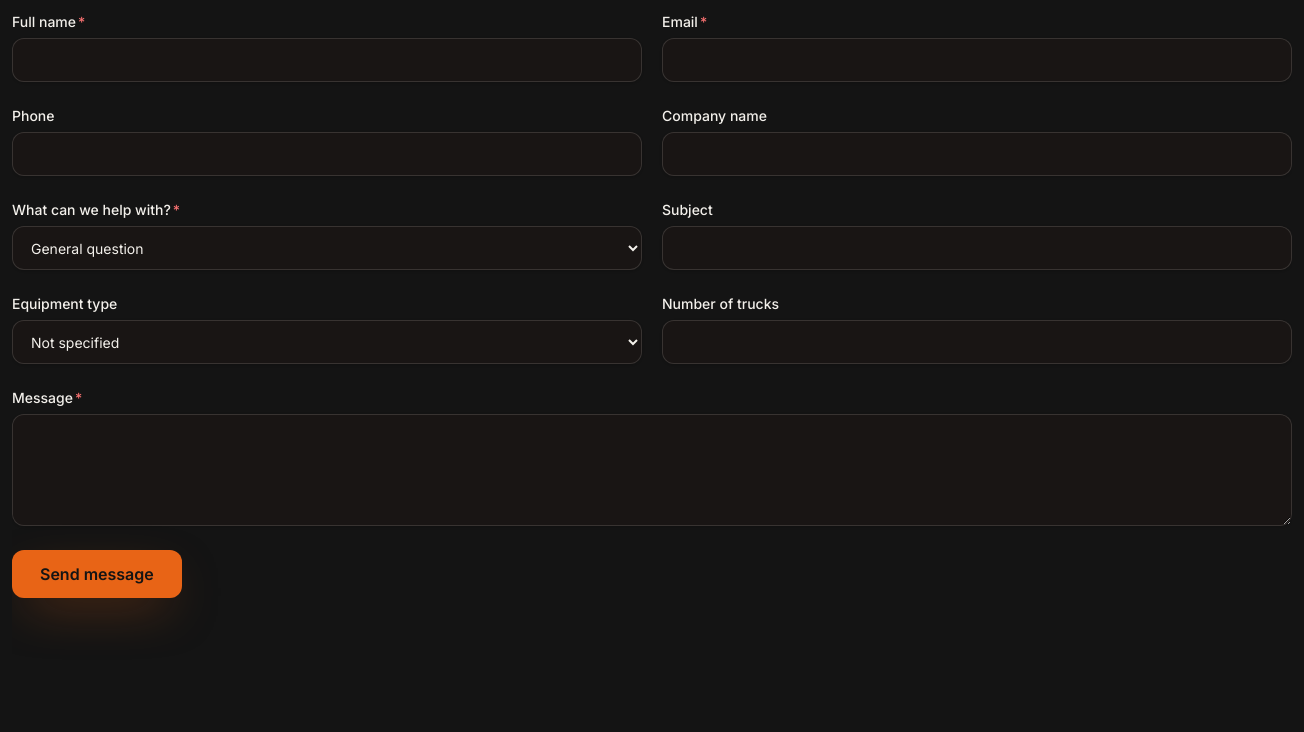
it: ContactForm › maps server field errors onto the matching fields and focuses the first
In the field labelled "Full name*": x=327, y=60 [12,38,642,82], type "Jane Driver"
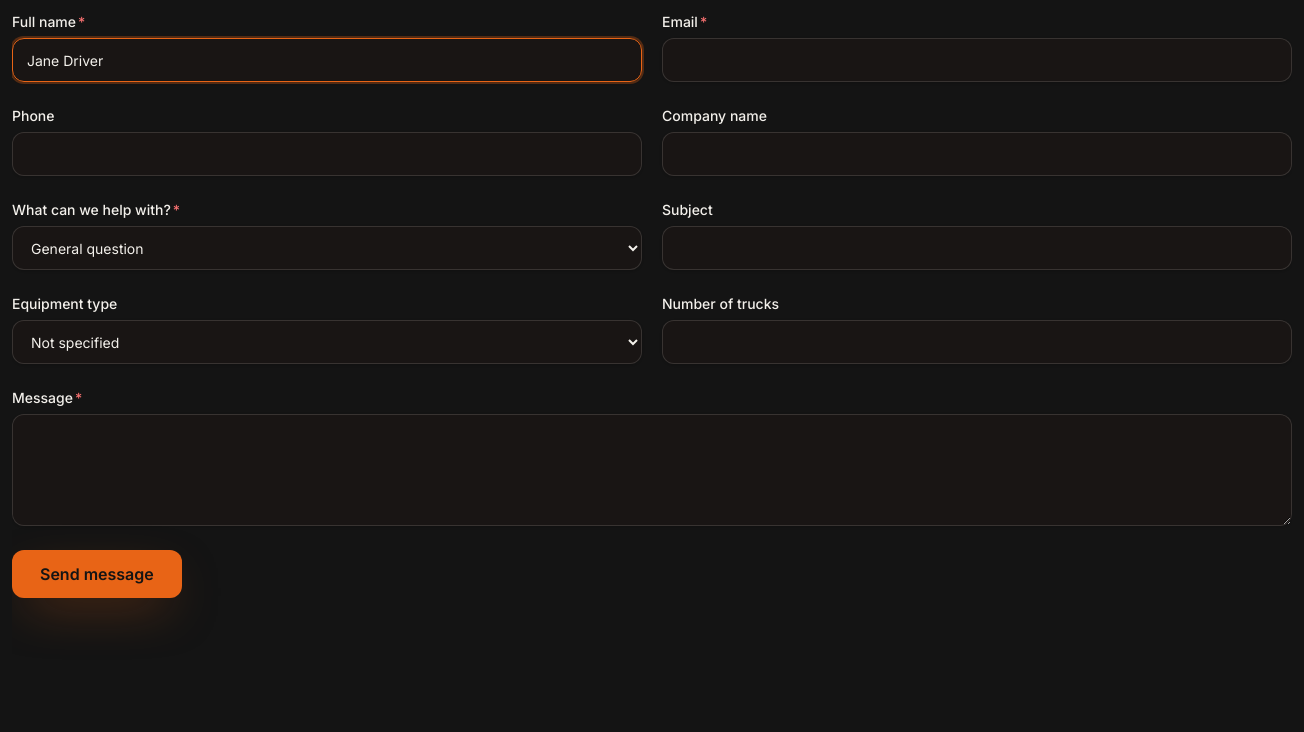
In the field labelled "Email*": x=977, y=60 [662,38,1292,82], type "jane@example.com"
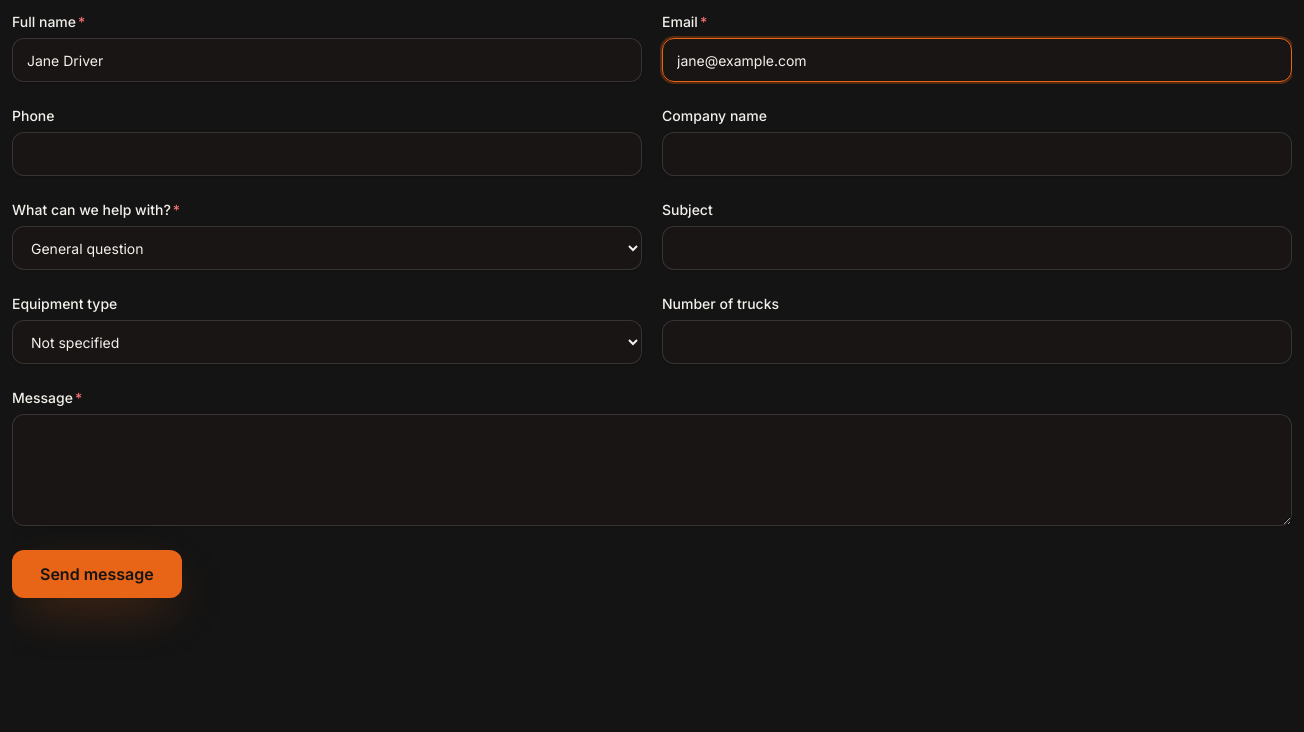
In the field labelled "Subject": x=977, y=248 [662,226,1292,270], type "Dispatch question"
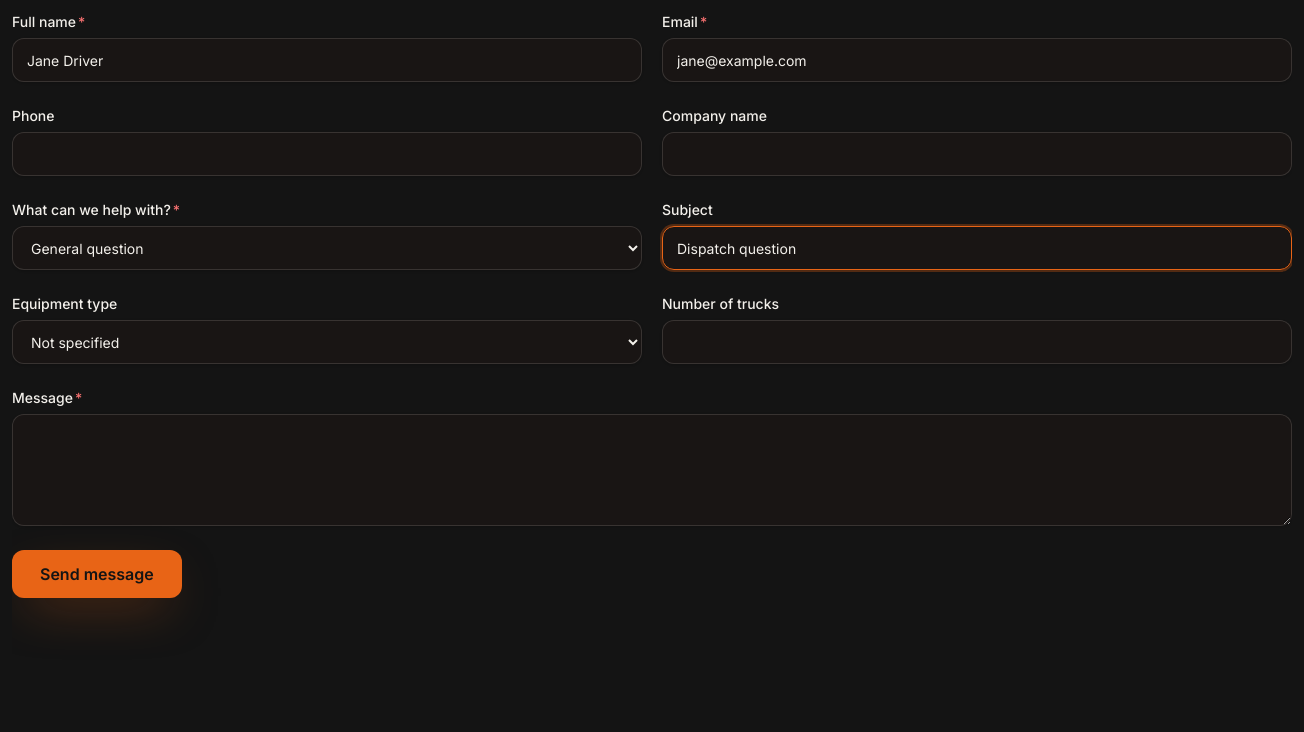
In the text box labelled "Message*": x=652, y=470 [12,414,1292,526], type "I would like to know more about dispatch."
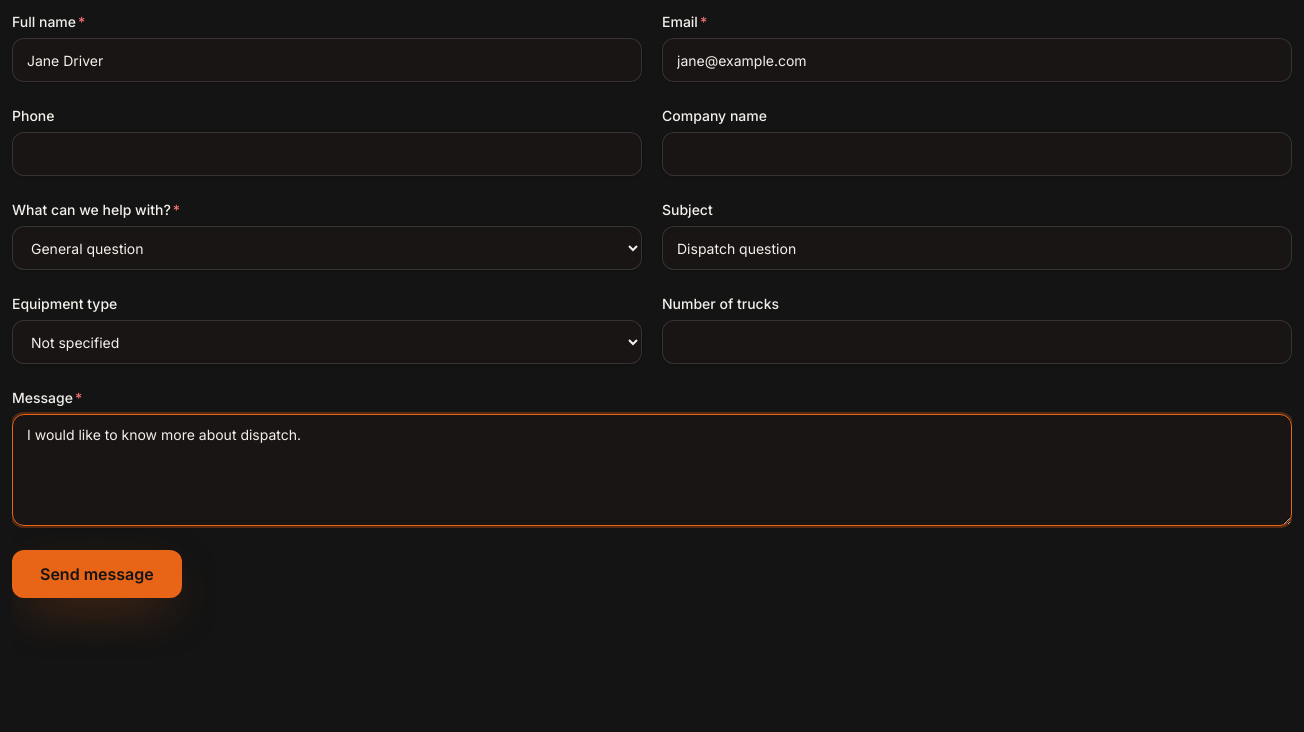
Click the button "Send message": x=97, y=574 [12,550,182,598]
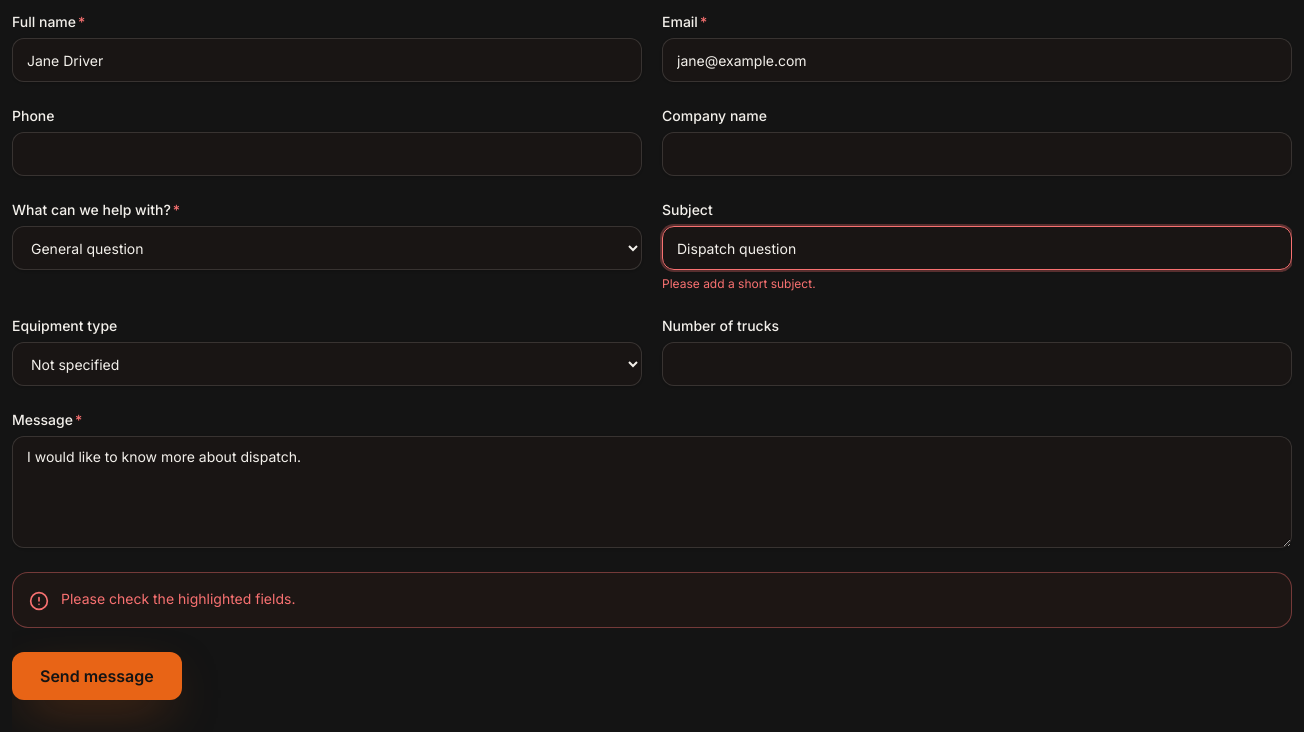
Expected: the message "Please add a short subject." is shown, [662,276,816,291]
Expected: the text "Please check the highlighted fields." is shown, [61,589,295,609]
